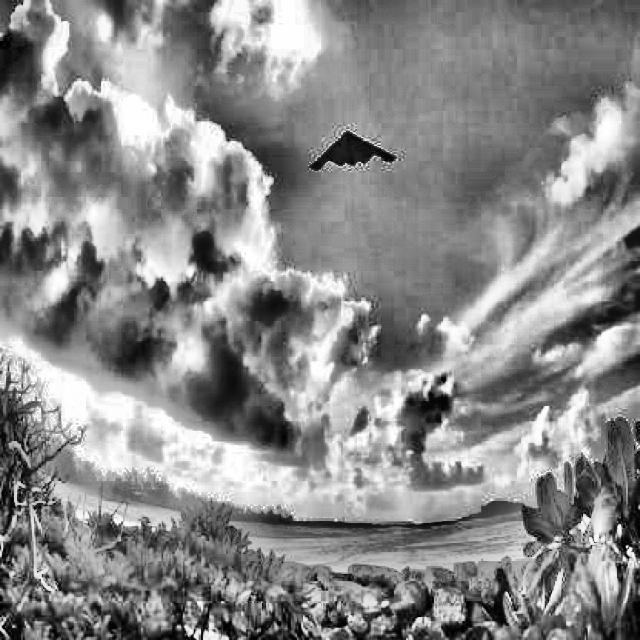B2: (309, 131, 397, 171)
